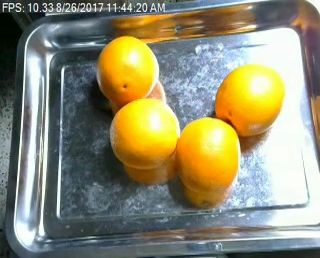Orange: (214, 63, 286, 136), (176, 115, 240, 195), (107, 99, 178, 168), (96, 35, 159, 105)
